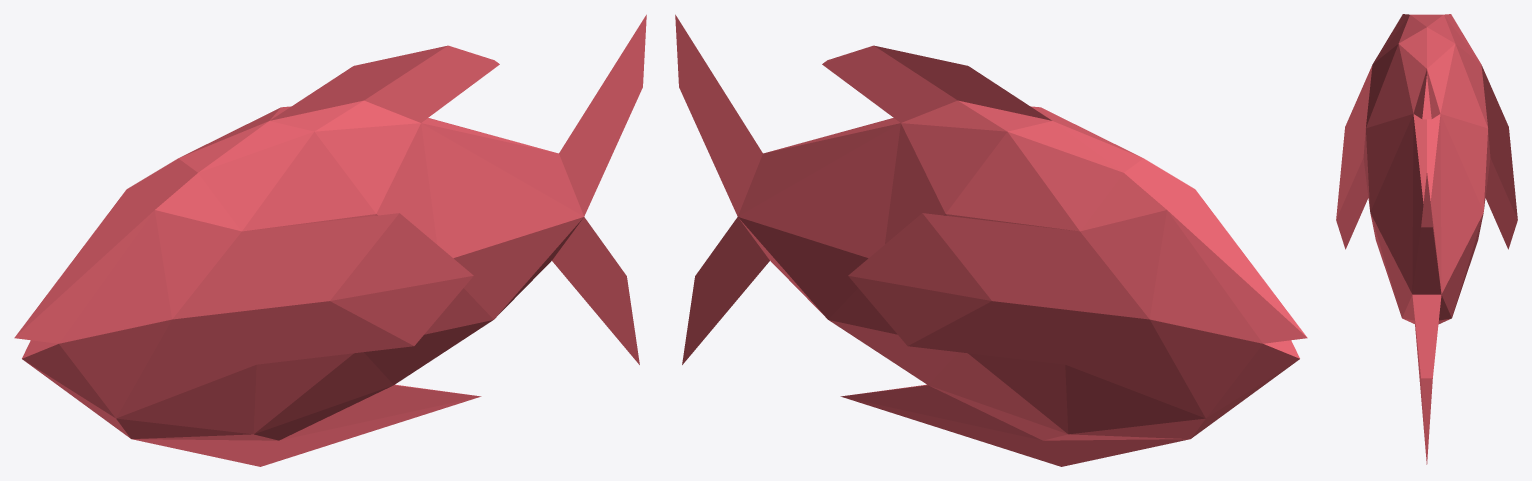
Rendered from Pez_V4.fbx.
3 views of the same model, side by side, from view 1: azimuth 30°, elevation 25°; view 2: azimuth 150°, elevation 25°; view 3: azimuth 270°, elevation 25° (orthographic). The views are drawn at different scales.
Visible parts, largest first — view 1: Icosphere; view 2: Icosphere; view 3: Icosphere.
Boxes of the visible parts, left/top/right/bottom form: Icosphere: left=14, top=14, right=646, bottom=466; Icosphere: left=675, top=14, right=1307, bottom=466; Icosphere: left=1336, top=14, right=1517, bottom=464.
Size of the model in its own units: 205 by 117 by 59.84.
